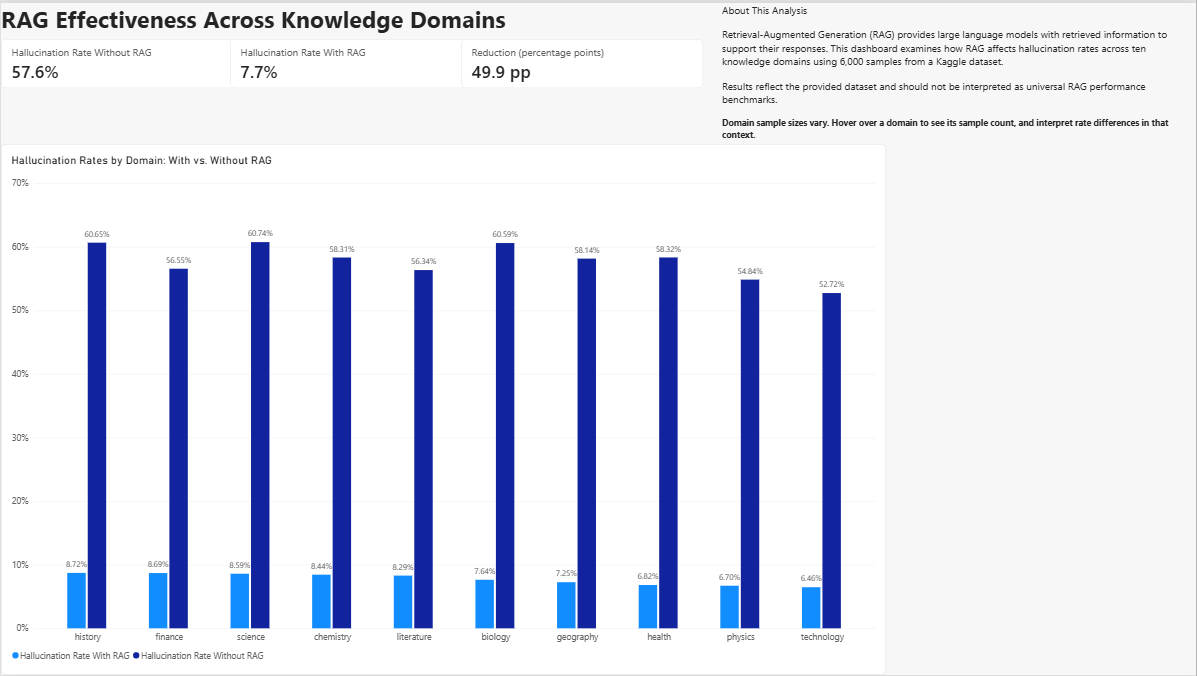

The page's visual inventory and layout, read from the dashboard file:
{"tool":"powerbi","page":{"name":"Rag Effectiveness Overview","canvas":[1920,1080],"ordinal":0},"visuals":[{"type":"cardVisual","fields":{"Data":["RAG_Evaluation_Data.Hallucination Rate Without RAG"]},"box":[0,58.1,389.3,79.3],"z":0},{"type":"cardVisual","fields":{"Data":["RAG_Evaluation_Data.Hallucination Rate With RAG"]},"box":[368.1,58.1,389.3,79.3],"z":1},{"type":"cardVisual","fields":{"Data":["RAG_Evaluation_Data.Hallucination Reduction Display"]},"box":[739.8,58.1,389.3,79.3],"z":2},{"type":"clusteredColumnChart","title":"Hallucination Rates by Domain: With vs. Without RAG","fields":{"Category":["RAG_Evaluation_Data.domain"],"Y":["RAG_Evaluation_Data.Hallucination Rate With RAG","RAG_Evaluation_Data.Hallucination Rate Without RAG"]},"box":[0,226.5,1421.9,853.2],"z":3},{"type":"textbox","box":[0,0,822.6,58.1],"z":4},{"type":"textbox","box":[1158.4,0,761.6,226.5],"z":5}]}

Visuals, with their boxes in screenshot pixels (x1, y1, x2, y2), scaled from the page's 1920x1080 canvas onto the 1197x676 screenshot:
cardVisual - RAG_Evaluation_Data.Hallucination Rate Without RAG: [0,36,243,86]
cardVisual - RAG_Evaluation_Data.Hallucination Rate With RAG: [229,36,472,86]
cardVisual - RAG_Evaluation_Data.Hallucination Reduction Display: [461,36,704,86]
"Hallucination Rates by Domain: With vs. Without RAG" clusteredColumnChart: [0,142,886,675]
textbox: [0,0,513,36]
textbox: [722,0,1196,142]
